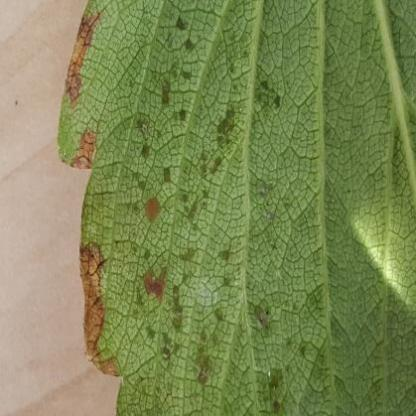Strawberry_Angular_LeafSpot: (58, 8, 324, 416)
